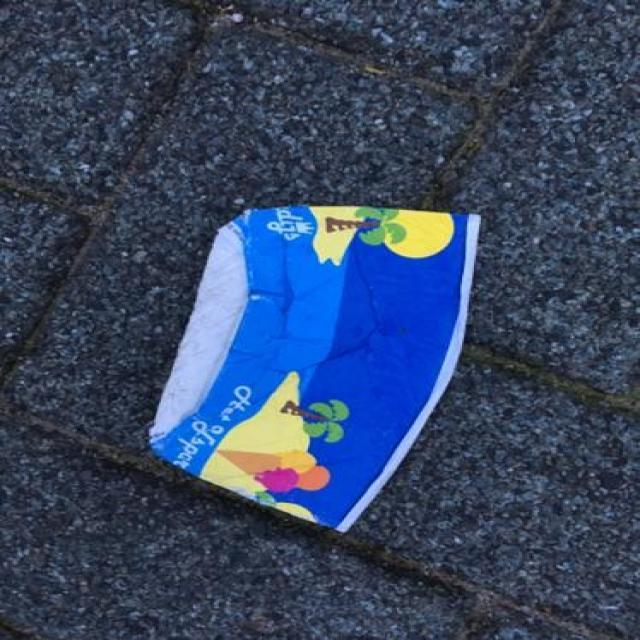Paper: (149, 200, 484, 536)
